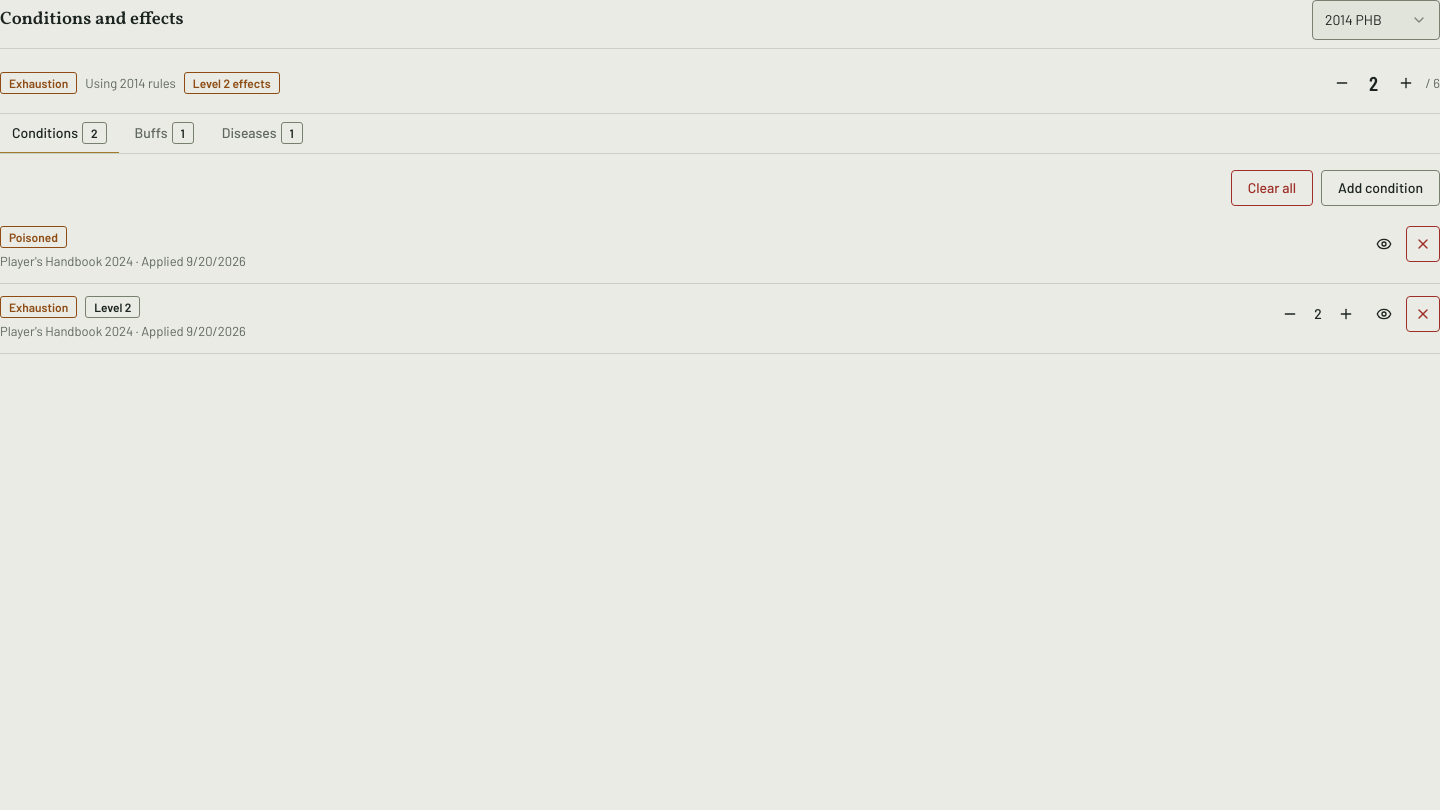
Test: ConditionsDiseasesManager effects › shows complete rows and separates buff-kind effects
Check: the heading "Conditions and effects" is shown, box [0, 8, 184, 32]
Check: the element named "Conditions and effects" is shown, box [0, 114, 1439, 154]
Step 1. Click the tab "Buffs 1" → (164, 134), box [123, 114, 206, 154]
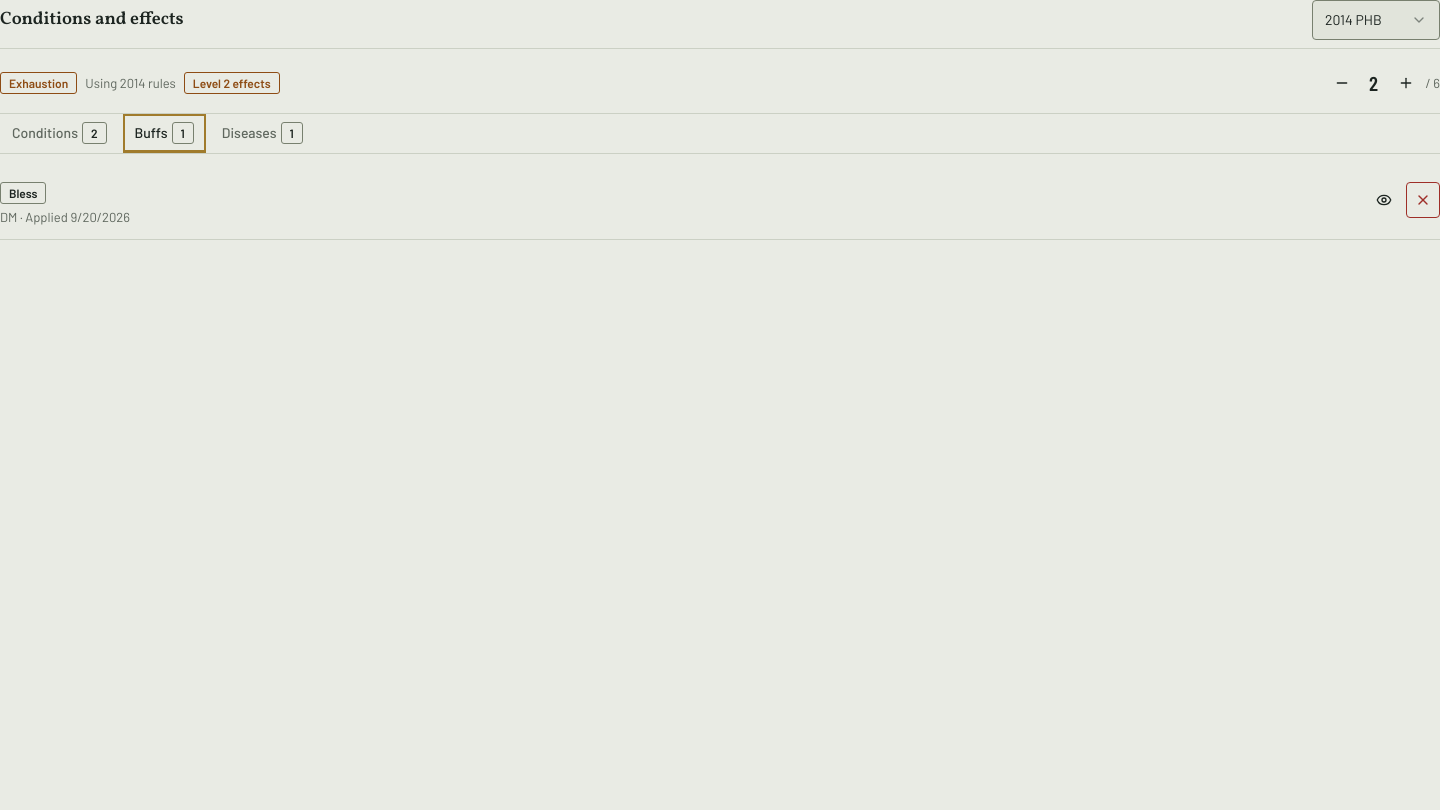
Check: the text "Bless" is shown, box [0, 182, 46, 204]
Check: the text "Poisoned" is gone
Step 2. Click the button named "Show Bless details" → (1384, 200), box [1368, 182, 1400, 218]
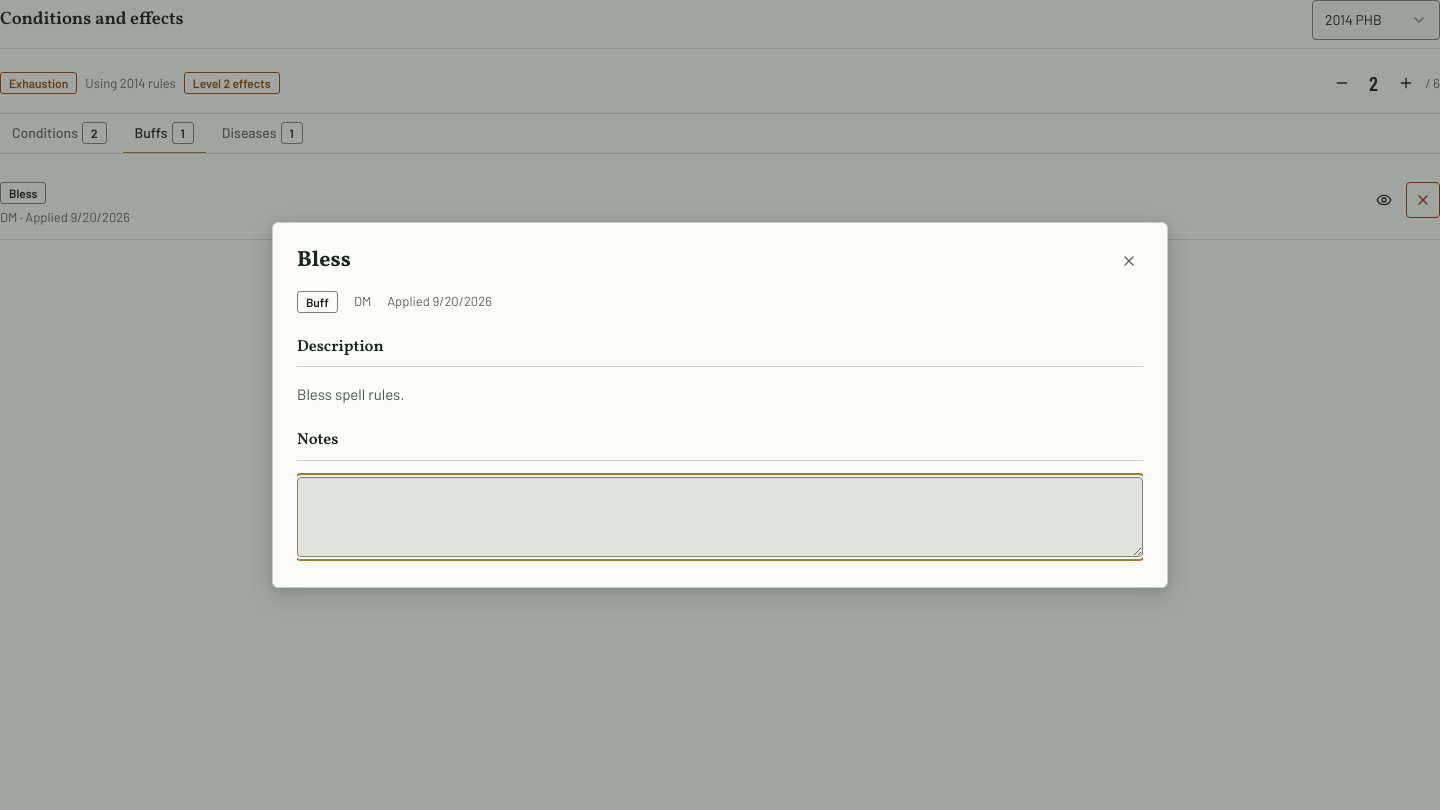
Check: the text "Bless spell rules." is shown, box [297, 385, 404, 403]
